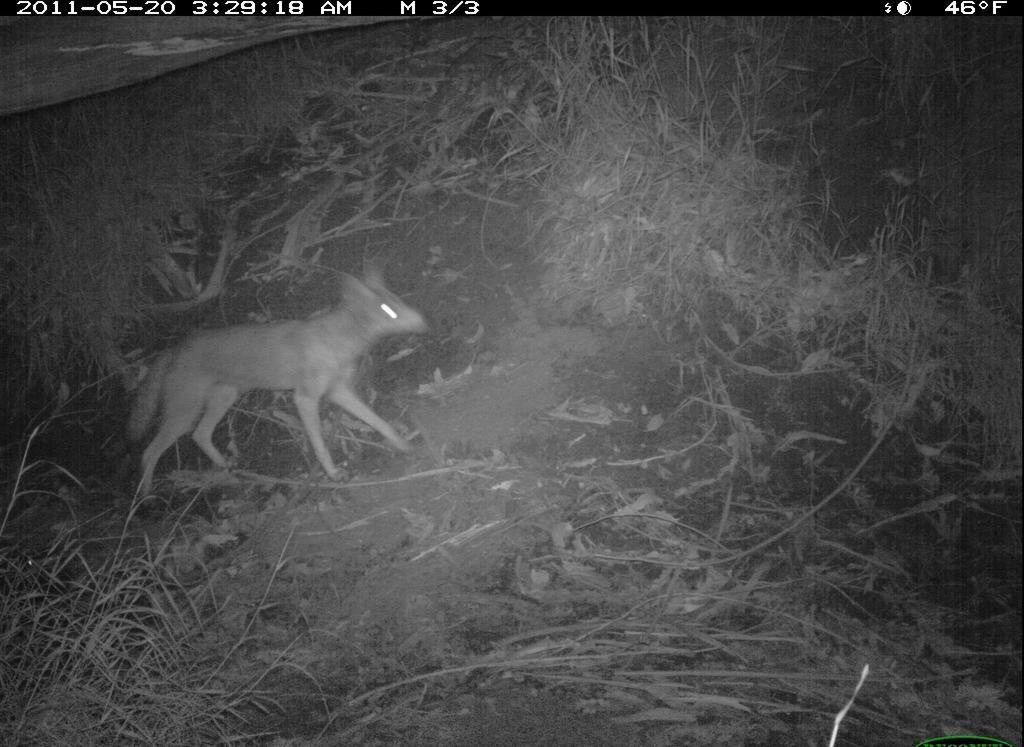coyote: (112, 253, 442, 513)
